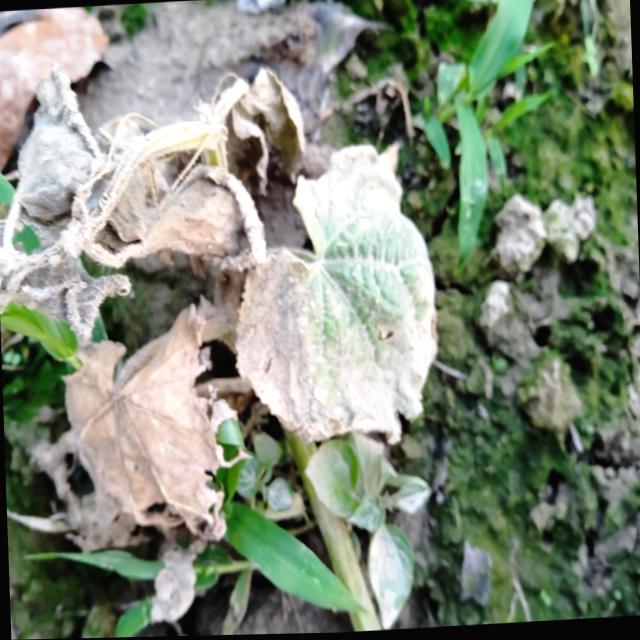Bacterial-Wilt: (64, 304, 250, 543), (101, 162, 272, 274), (11, 61, 114, 234)
